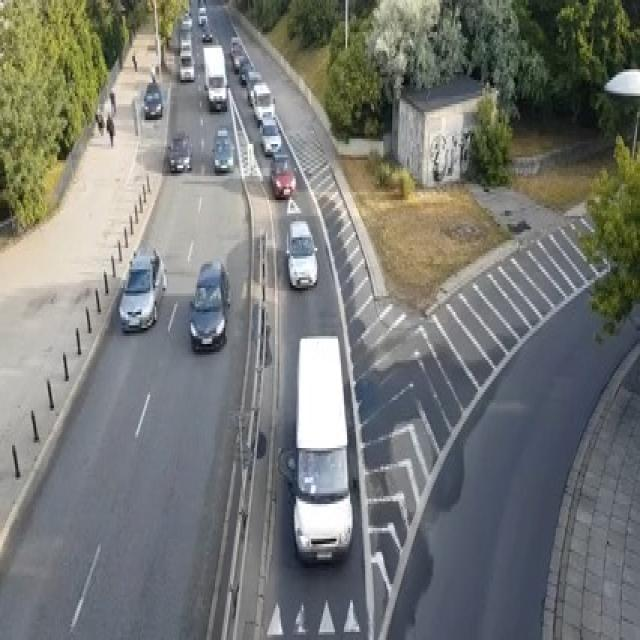bus: (290, 333, 353, 563)
car: (117, 248, 167, 331), (188, 259, 230, 352), (286, 219, 318, 288), (269, 152, 296, 197), (167, 128, 192, 171), (251, 80, 275, 123), (212, 125, 234, 171), (258, 114, 281, 154), (206, 72, 227, 109), (143, 83, 162, 117), (245, 69, 261, 104), (179, 51, 194, 80), (230, 43, 245, 72), (239, 56, 254, 83), (197, 5, 207, 24), (182, 11, 192, 29), (201, 24, 212, 40)
